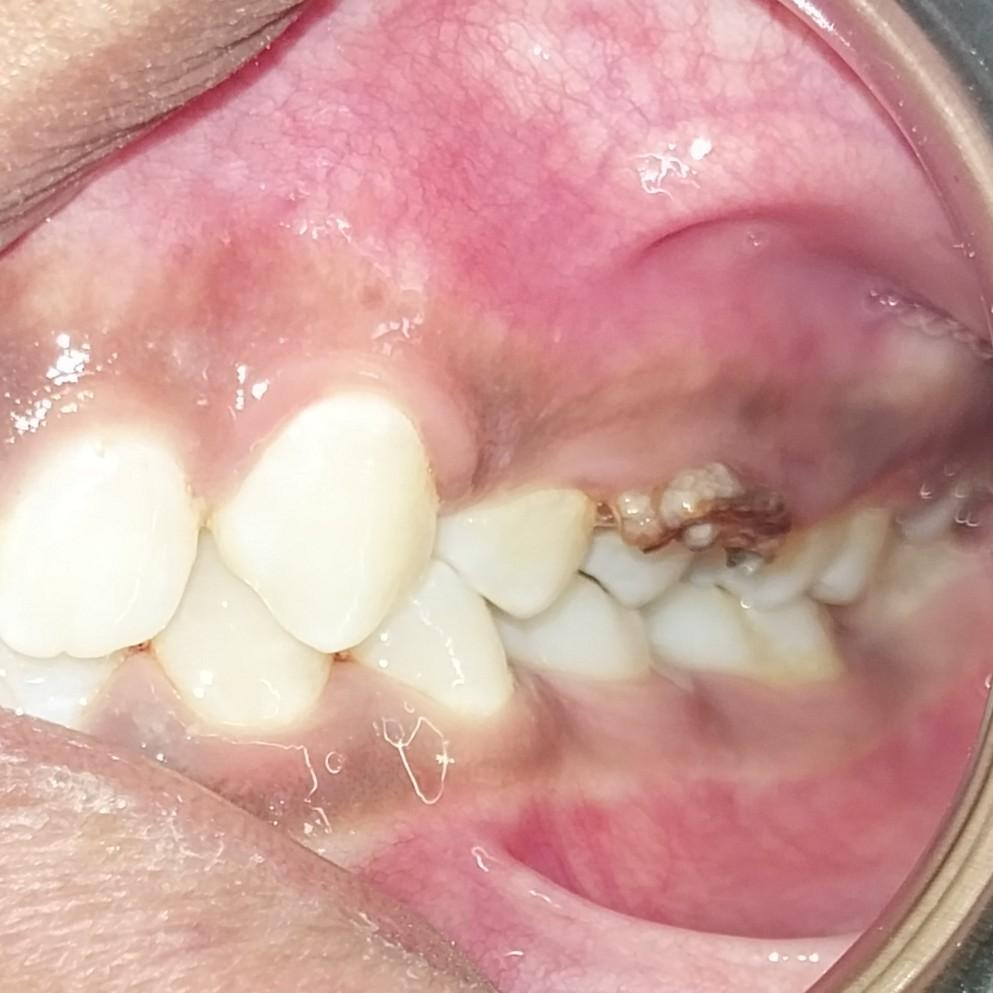d: (612, 467, 783, 563)
